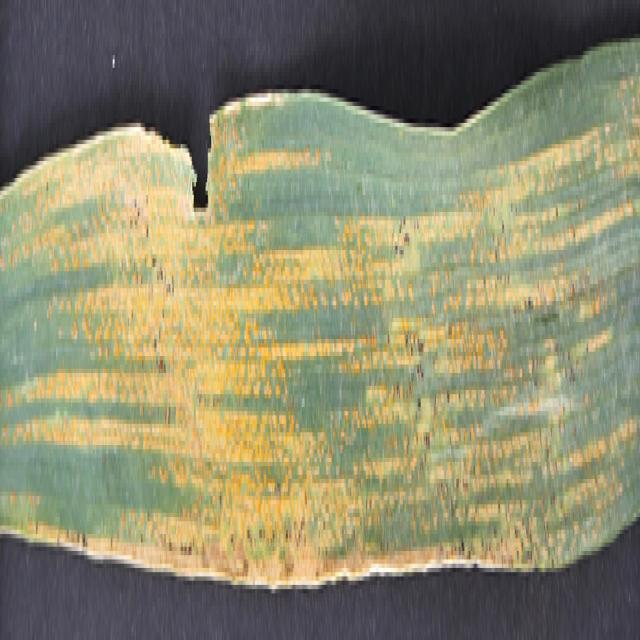leaf rust: (213, 97, 637, 594), (1, 233, 210, 581)
